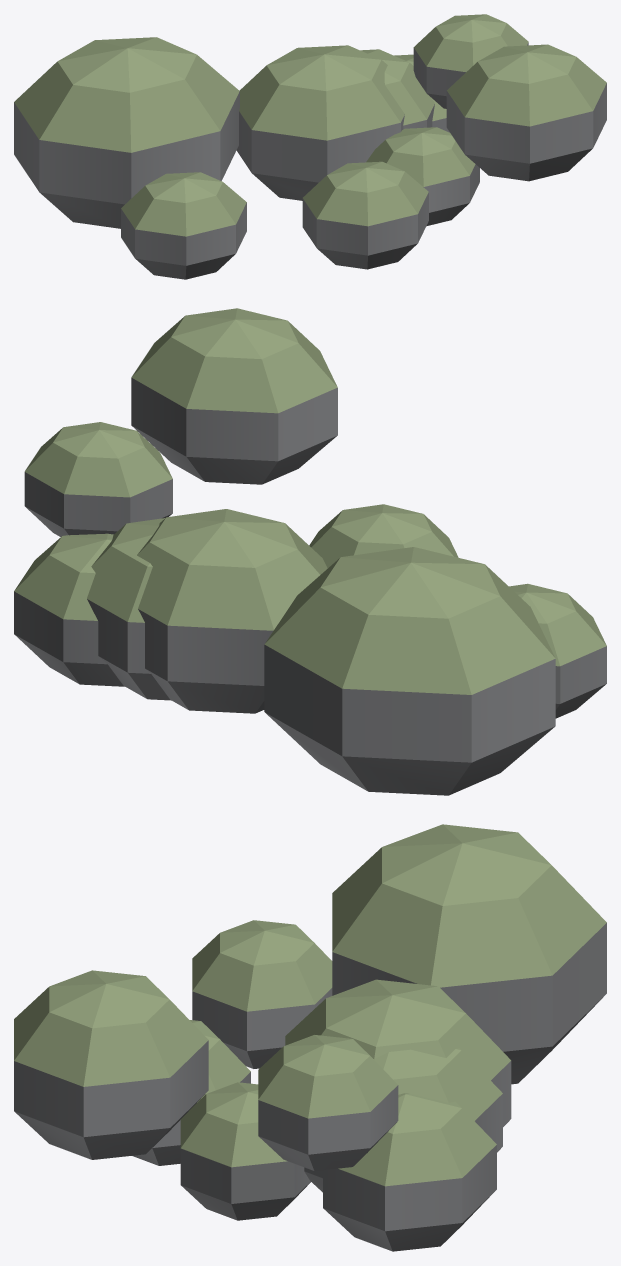
File: Rock_Pile.fbx
The picture shows the model from 3 angles, top to bottom: view 1: azimuth 30°, elevation 25°; view 2: azimuth 150°, elevation 25°; view 3: azimuth 270°, elevation 25°; orthographic projection. The views are drawn at different scales.
Visible parts, largest first — view 1: Res_Rock_Pile; view 2: Res_Rock_Pile; view 3: Res_Rock_Pile.
Boxes of the visible parts, box(x1,y1,x2,y2) form: Res_Rock_Pile: box(14, 14, 606, 279); Res_Rock_Pile: box(14, 308, 606, 795); Res_Rock_Pile: box(14, 824, 606, 1251).
Size of the model in its own units: 1.56 by 0.659 by 1.33.
